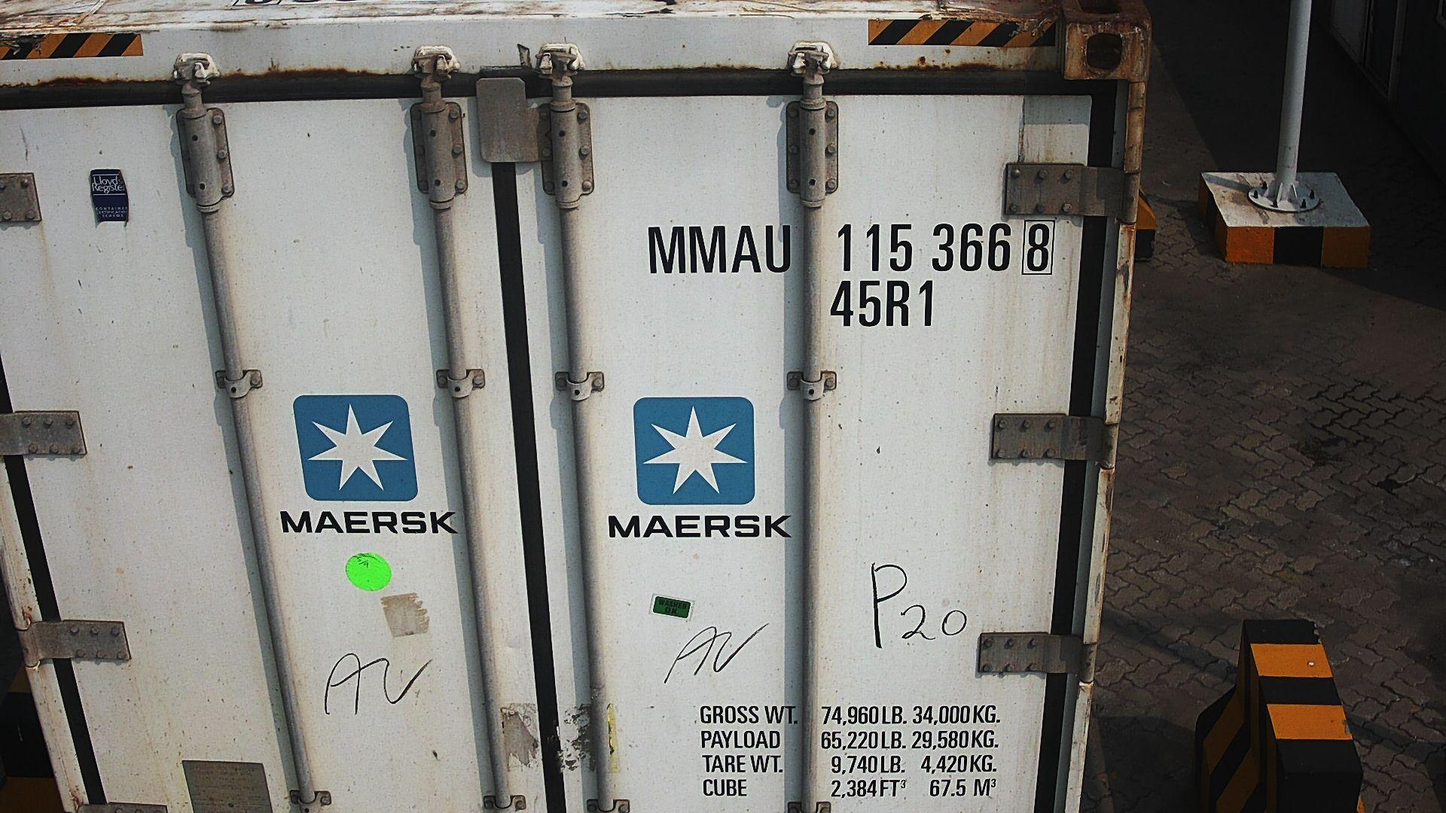container-numbers: (640, 217, 1068, 279), (825, 276, 939, 332)
